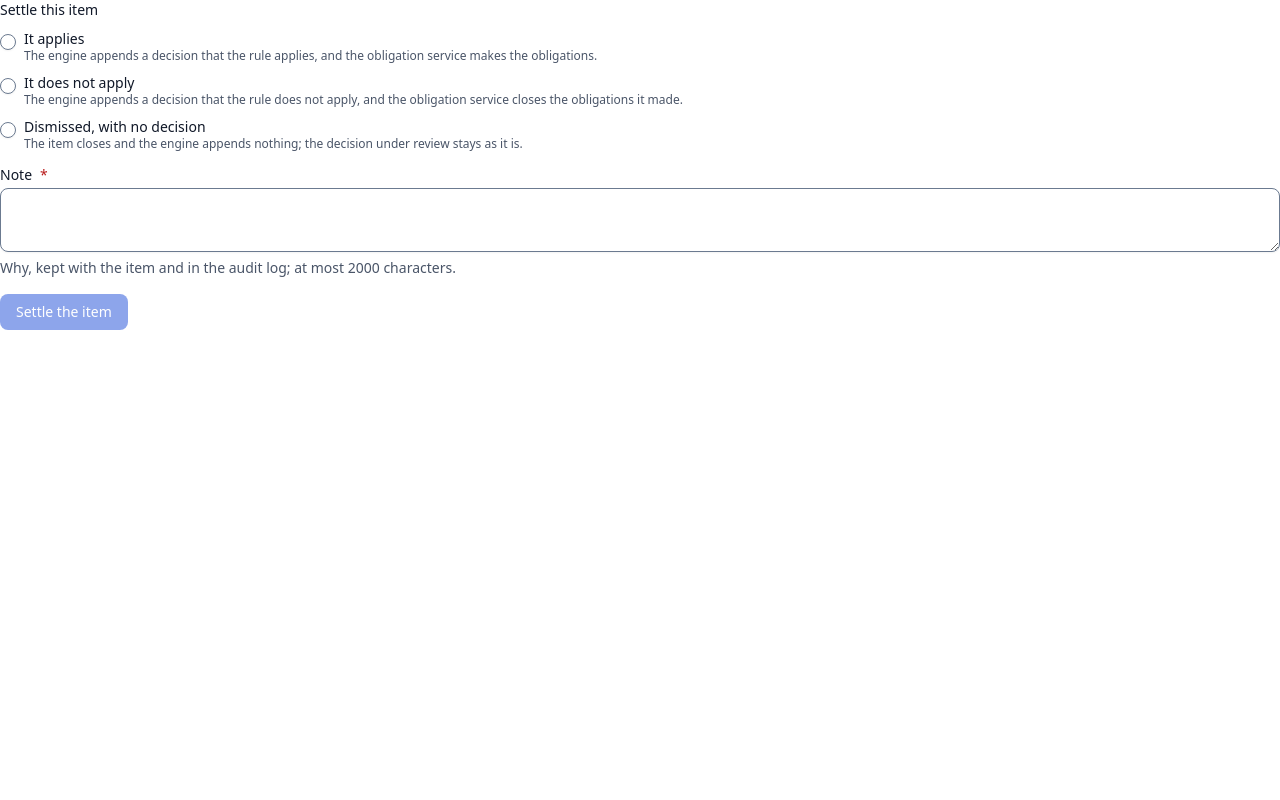
it: ResolvePanel › shows the engine's refusal and a field's message
The image size is (1280, 800).
Click the radio button named "Dismissed, with no decision" next to "Dismissed, with no decision": [8, 130] box [0,122,16,138]
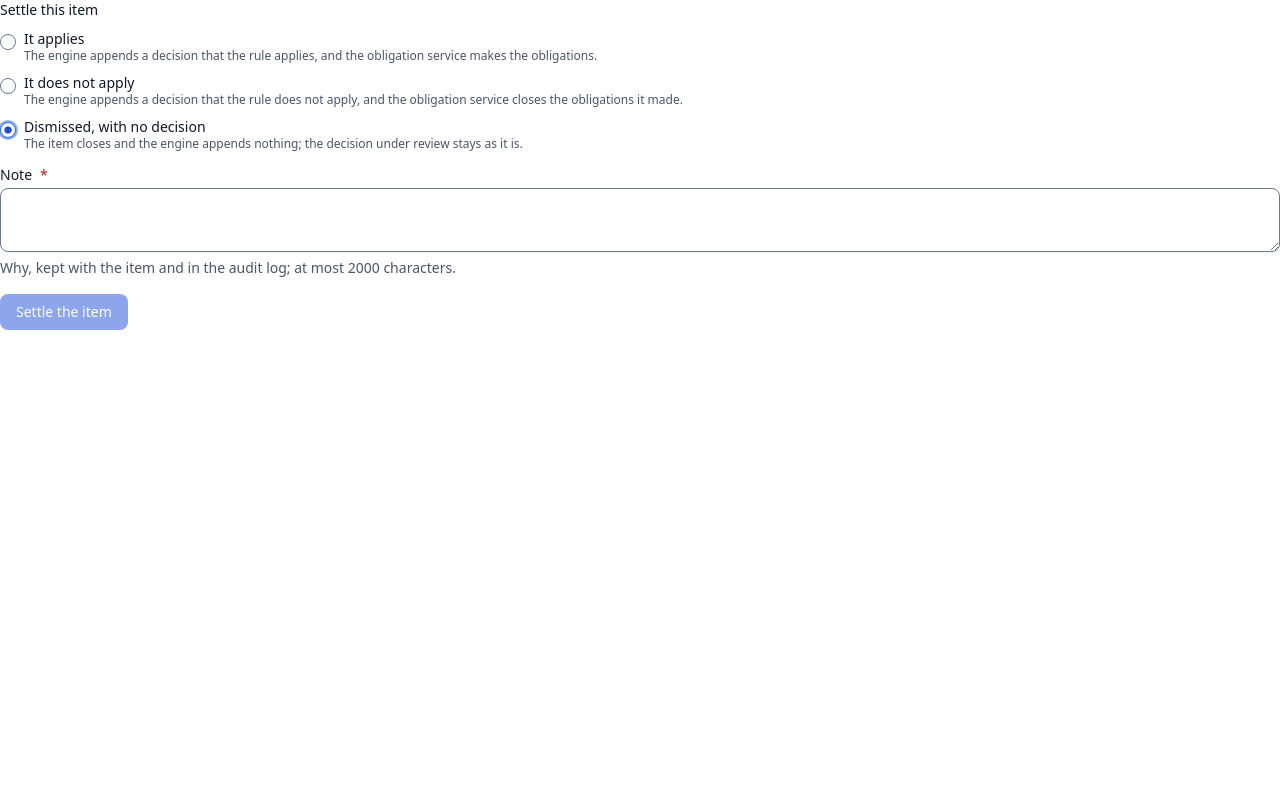
In the text box labelled "Note *": [640, 220] box [0,188,1279,252], type "Example note"
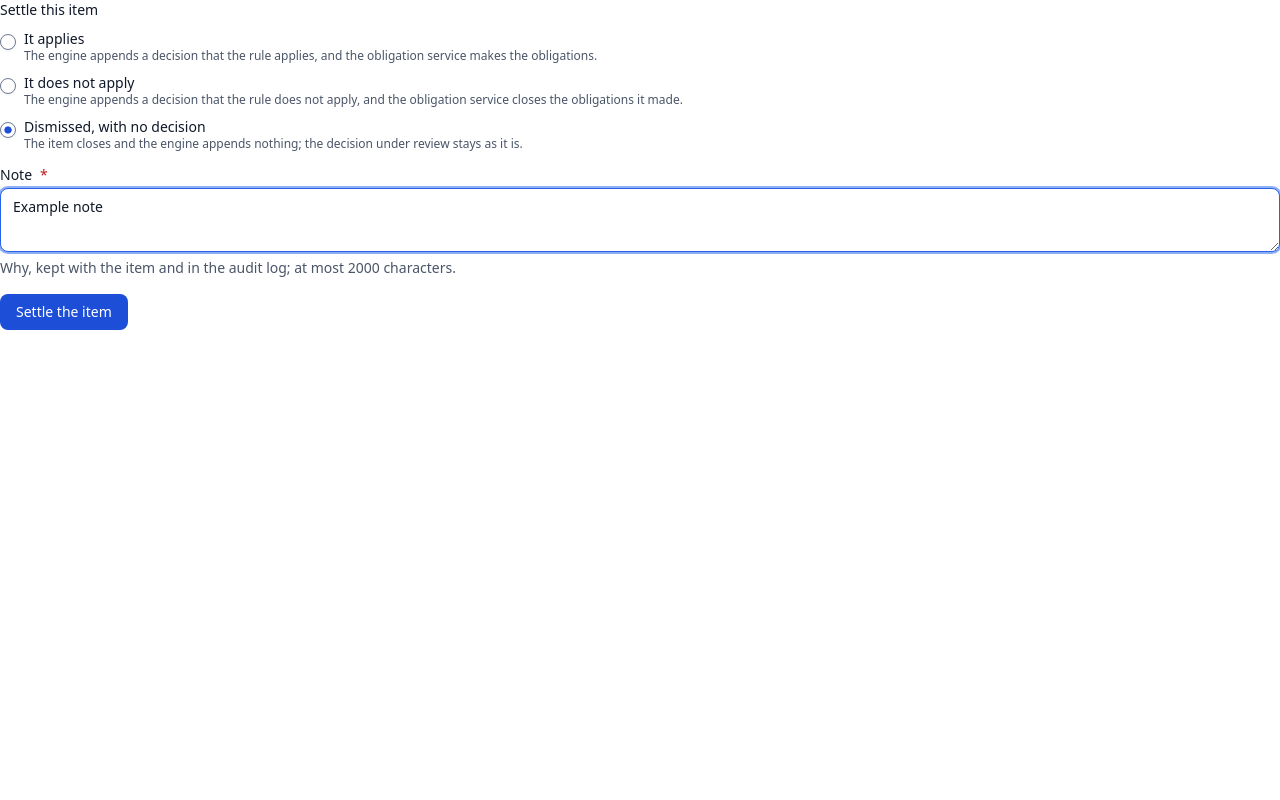
Click the button "Settle the item": [64, 312] box [0,294,128,330]
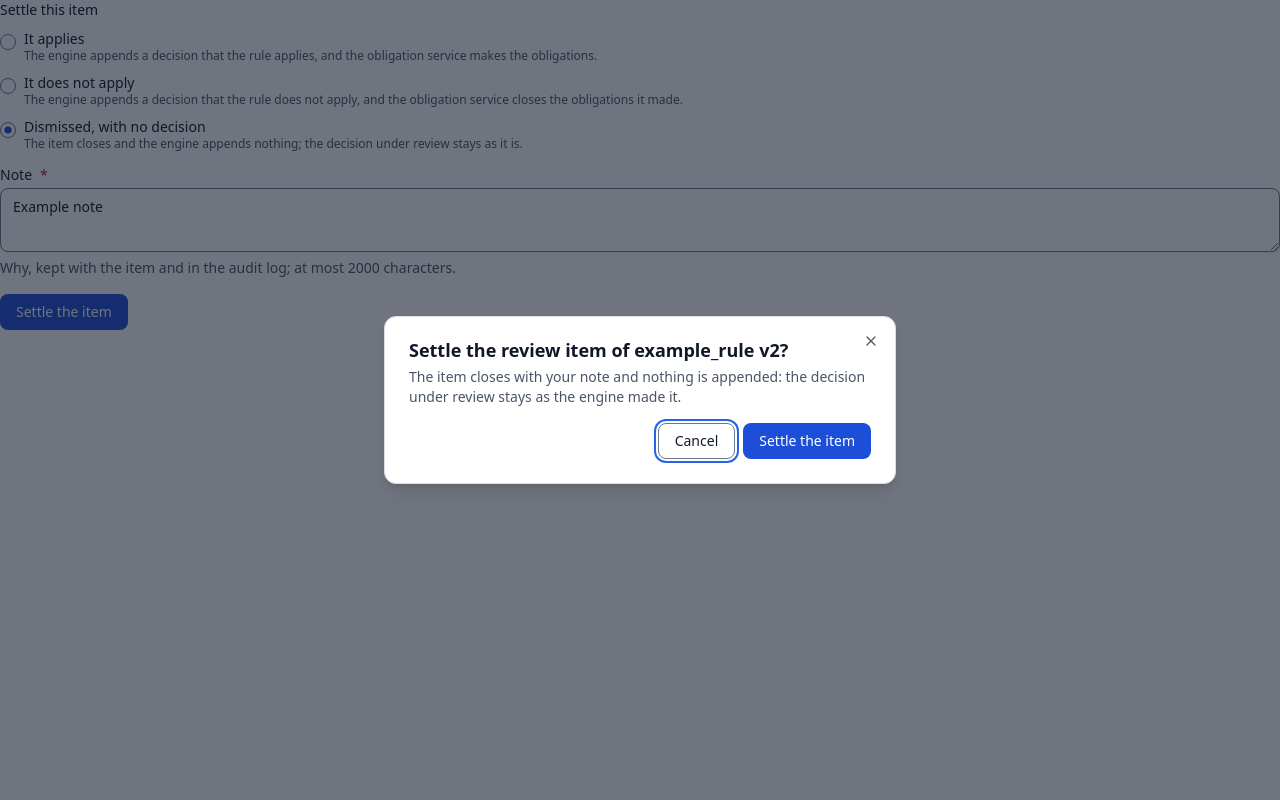
Expected: the dialog shows "nothing is appended", [409,367,865,406]
Click the button "Settle the item": [807, 441] box [743,423,871,459]
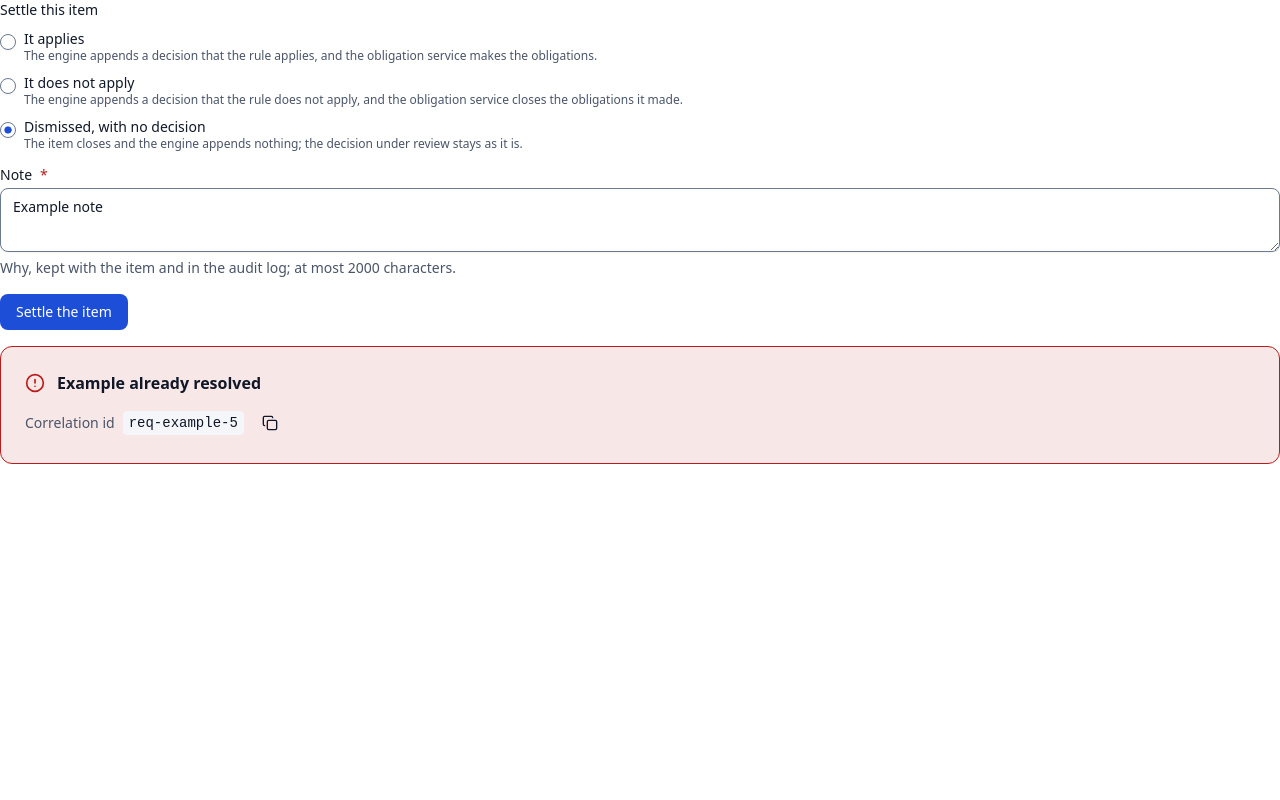
Expected: the text "Example already resolved" is shown, [57,372,261,394]
Expected: the text "req-example-5" is shown, [123,411,244,435]
Click the button "Settle the item": [64, 312] box [0,294,128,330]
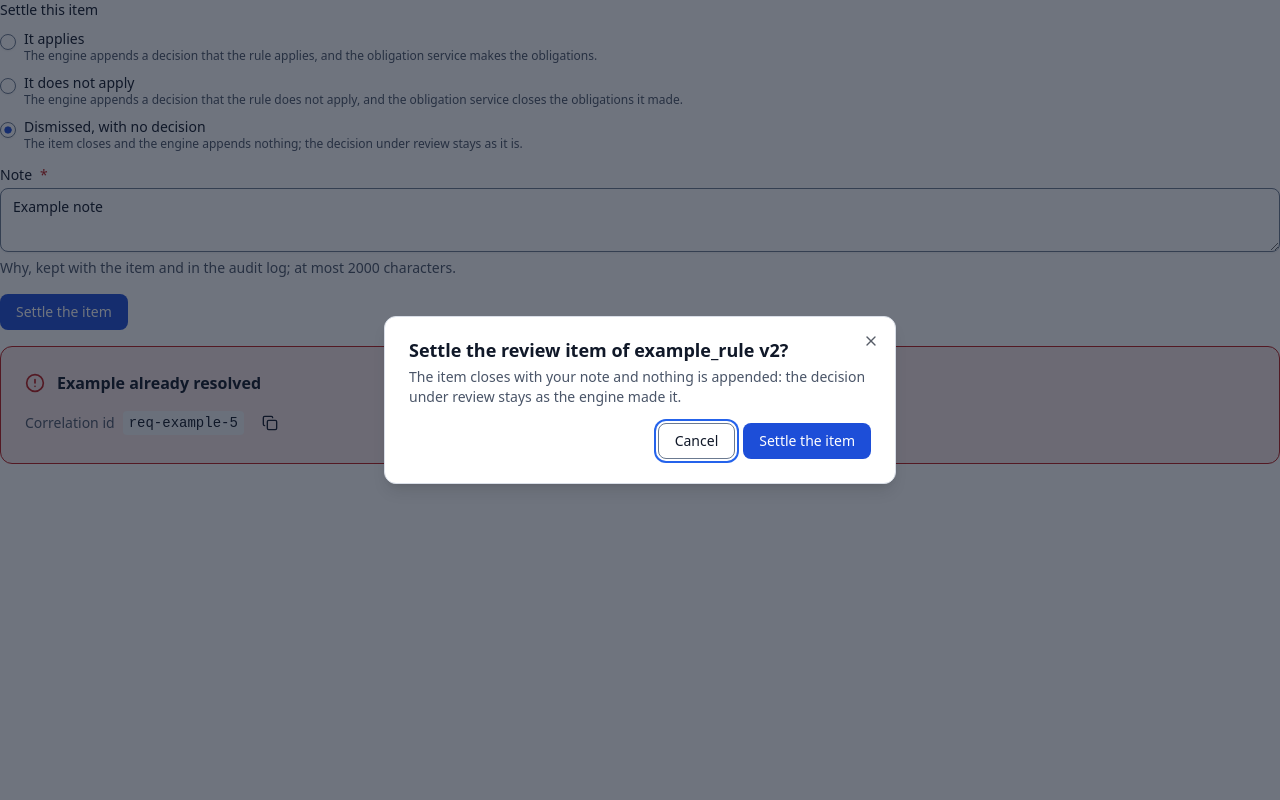
Click the button "Settle the item": [807, 441] box [743,423,871,459]
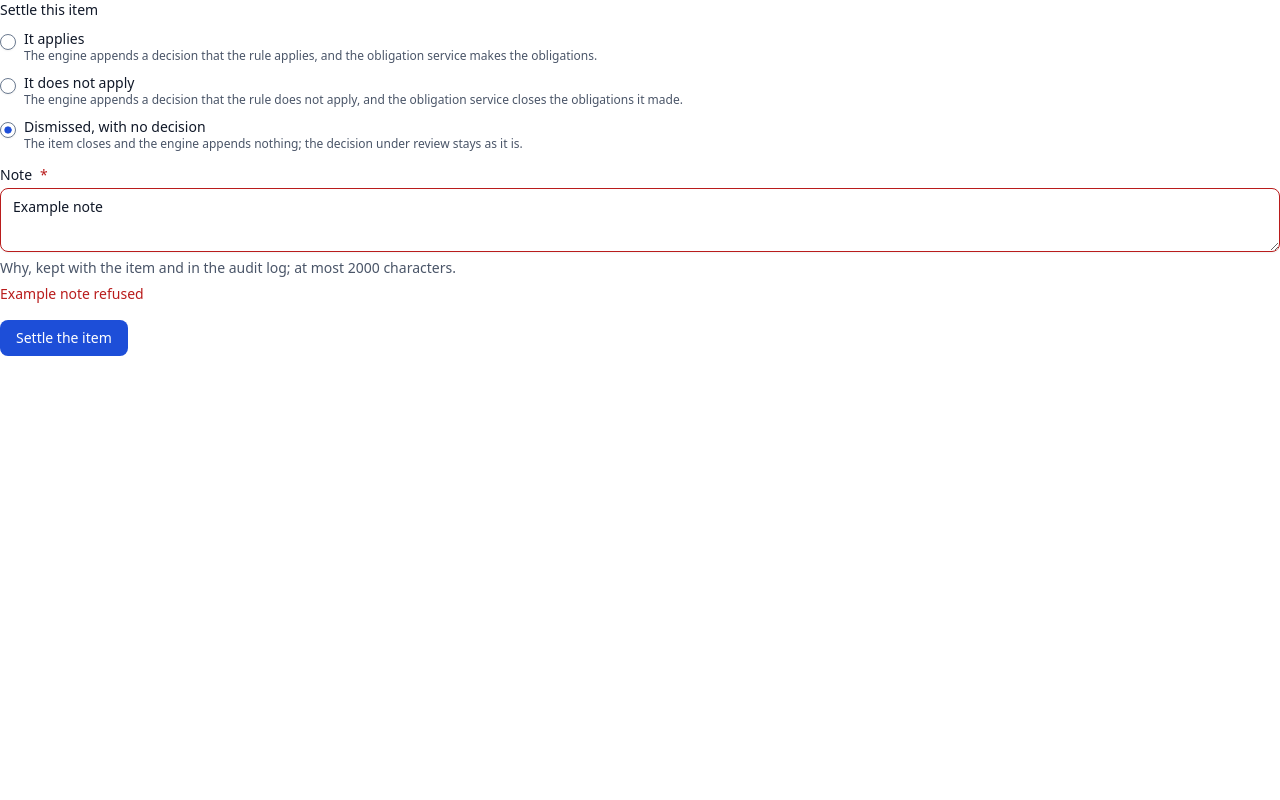
Expected: the text "Example note refused" is shown, [0,284,144,303]
